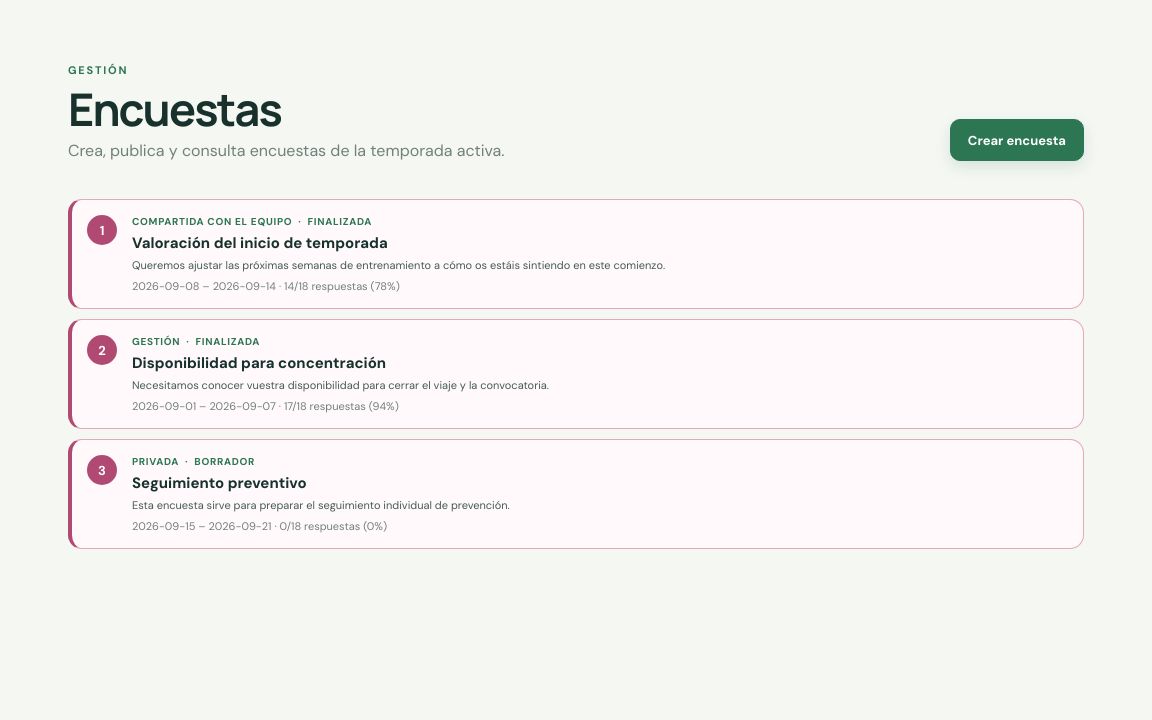
it: SurveysView draft editor › can publish directly from the draft editor
This screenshot has width=1152, height=720.
Click the button "Crear encuesta" at (1017, 140), box [950,119,1084,161]
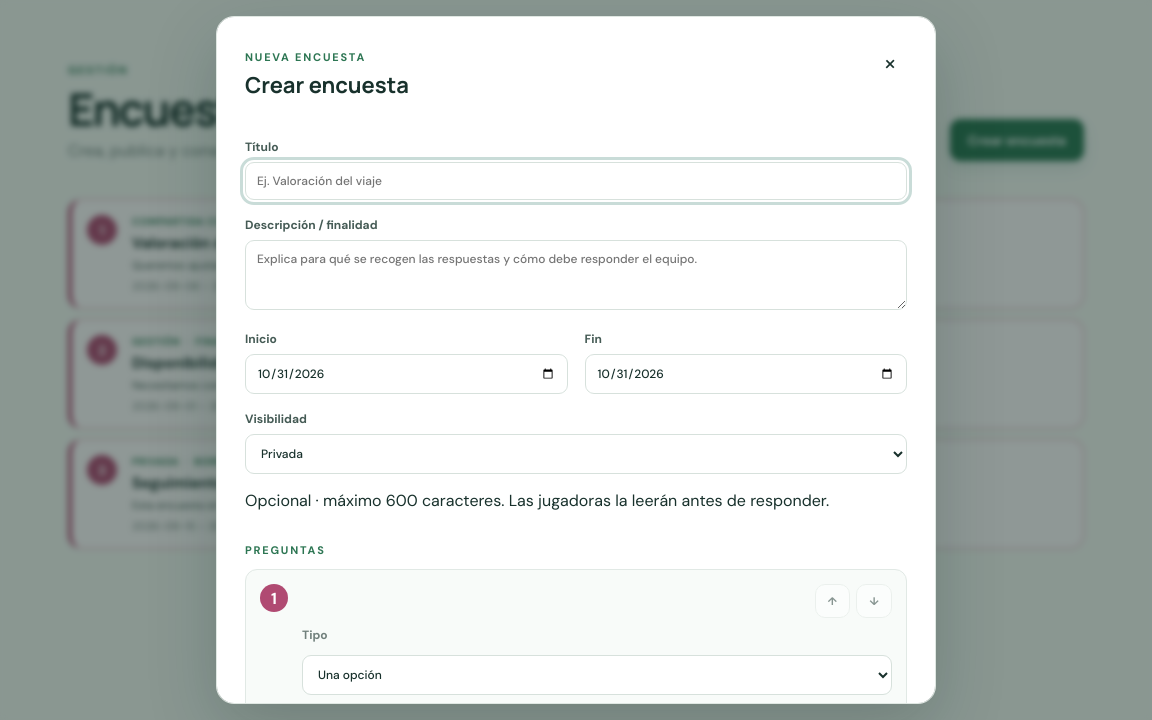
Type "Valoración del viaje" into the field labelled "Título" at (576, 181), box [245,162,907,200]
(page scrolled)
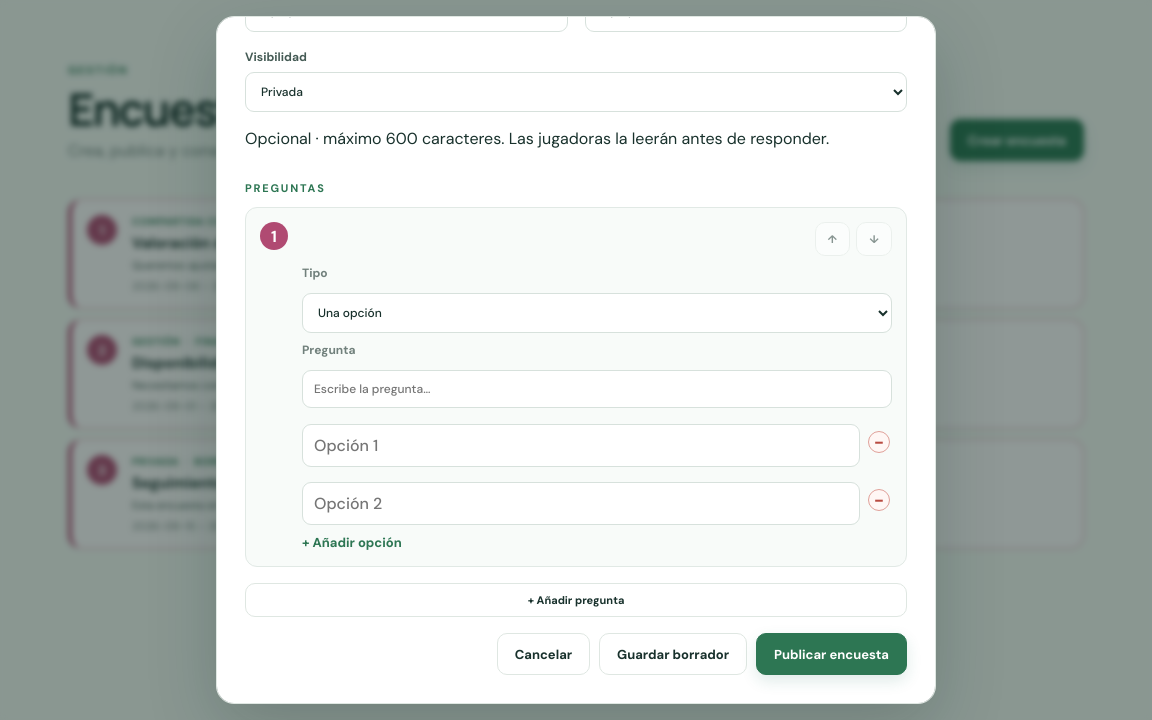
Type "¿Cómo fue el viaje?" into the field named "Pregunta 1" at (597, 389), box [302,370,892,408]
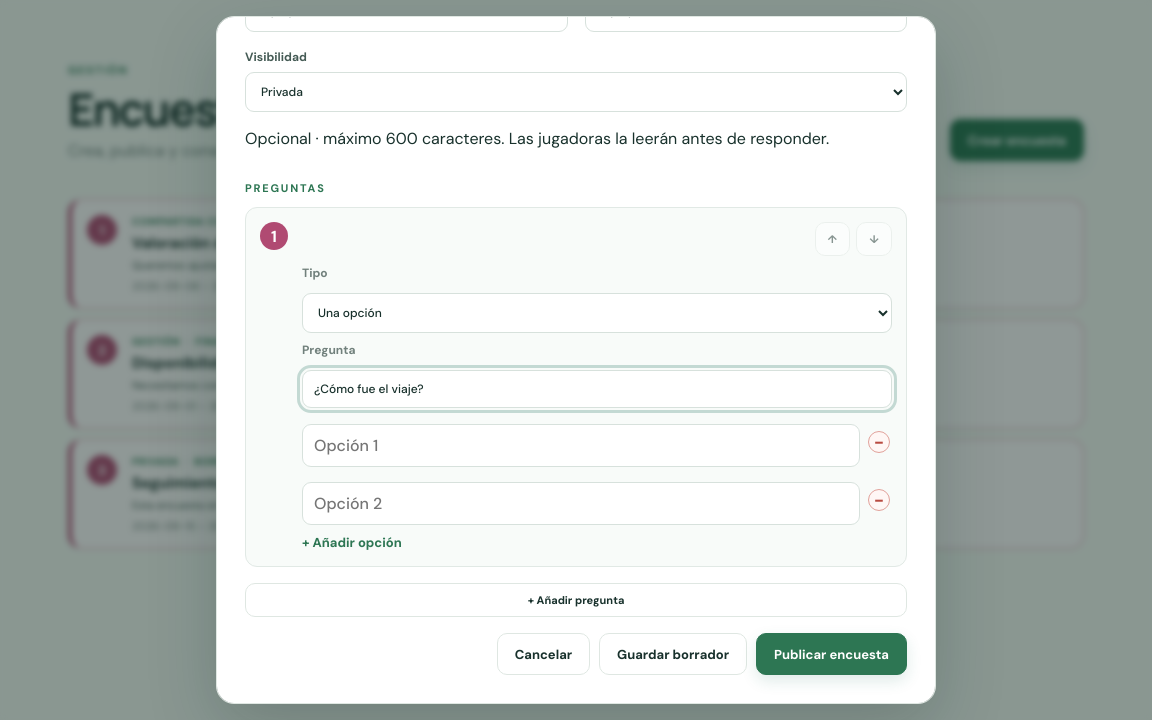
Click the button "Publicar encuesta" at (832, 654), box [756,633,907,675]
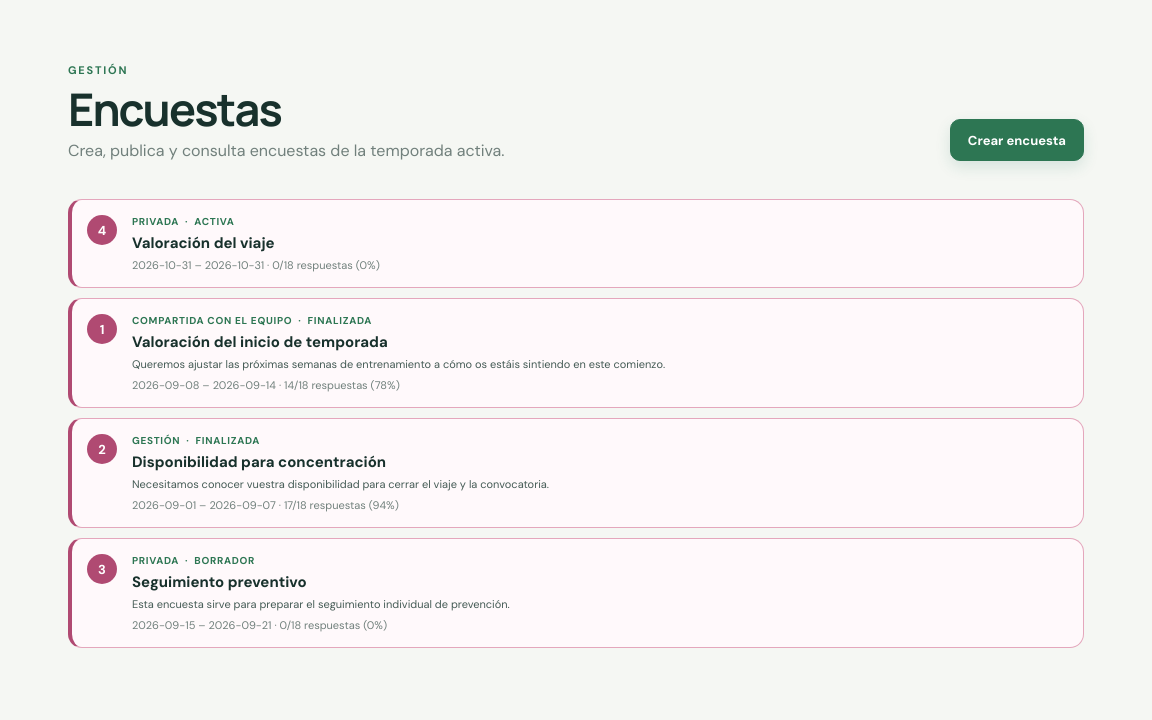
Check: the text "Activa" is shown, box [194,215,234,228]
